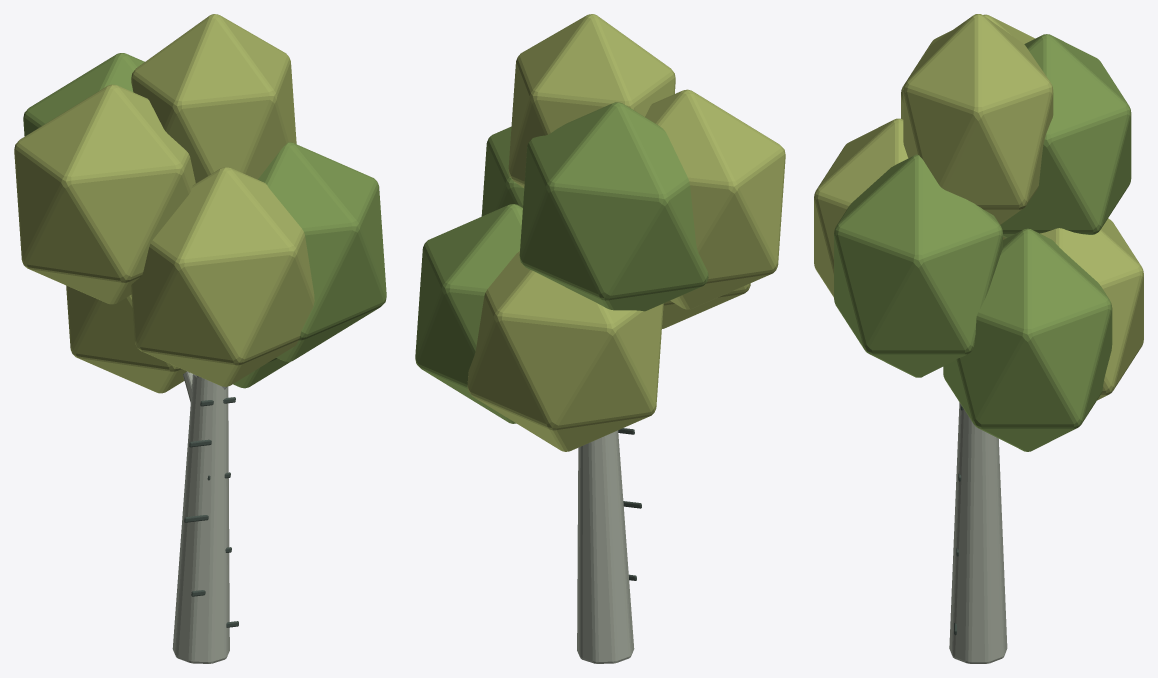
The model's file is birch_tree.glb.
3 views of the same model, side by side, from view 1: azimuth 30°, elevation 25°; view 2: azimuth 150°, elevation 25°; view 3: azimuth 270°, elevation 25° (orthographic).
Parts seen in each view (by area): view 1: AutumnCrown.002, AutumnCrown.003, BirchTrunk.001, BarkMark.001; view 2: AutumnCrown.002, AutumnCrown.003, BirchTrunk.001; view 3: AutumnCrown.003, AutumnCrown.002, BirchTrunk.001.
Part boxes in pixels (box(x1,y1,x2,y2)): AutumnCrown.002: box(14, 14, 314, 393); AutumnCrown.003: box(23, 53, 386, 388); BirchTrunk.001: box(172, 371, 229, 663); BarkMark.001: box(184, 372, 238, 627); AutumnCrown.002: box(467, 14, 785, 451); AutumnCrown.003: box(415, 102, 708, 423); BirchTrunk.001: box(577, 430, 634, 663); AutumnCrown.003: box(834, 34, 1131, 451); AutumnCrown.002: box(814, 14, 1143, 400); BirchTrunk.001: box(949, 402, 1007, 663).
Bounding box in the file's own units: 2.45 × 4.48 × 2.08.
